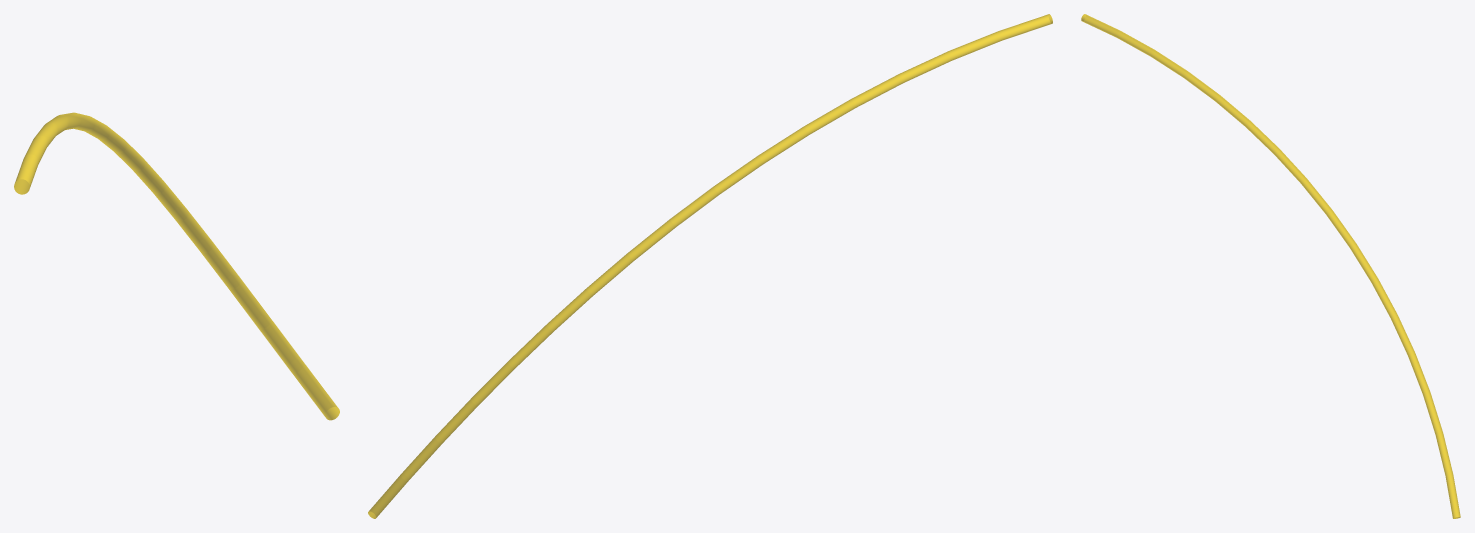
The model's file is Event_84804159_track_0.fbx.
3 renders of one model, left to right at view 1: azimuth 30°, elevation 25°; view 2: azimuth 150°, elevation 25°; view 3: azimuth 270°, elevation 25°, orthographic. The views are drawn at different scales.
Visible parts, largest first — view 1: Model; view 2: Model; view 3: Model.
Part boxes in pixels (box(x1,y1,x2,y2)): Model: box(14, 112, 339, 420); Model: box(368, 14, 1052, 518); Model: box(1081, 14, 1460, 518).
Size of the model in its own units: 2 by 1.87 by 1.89.
